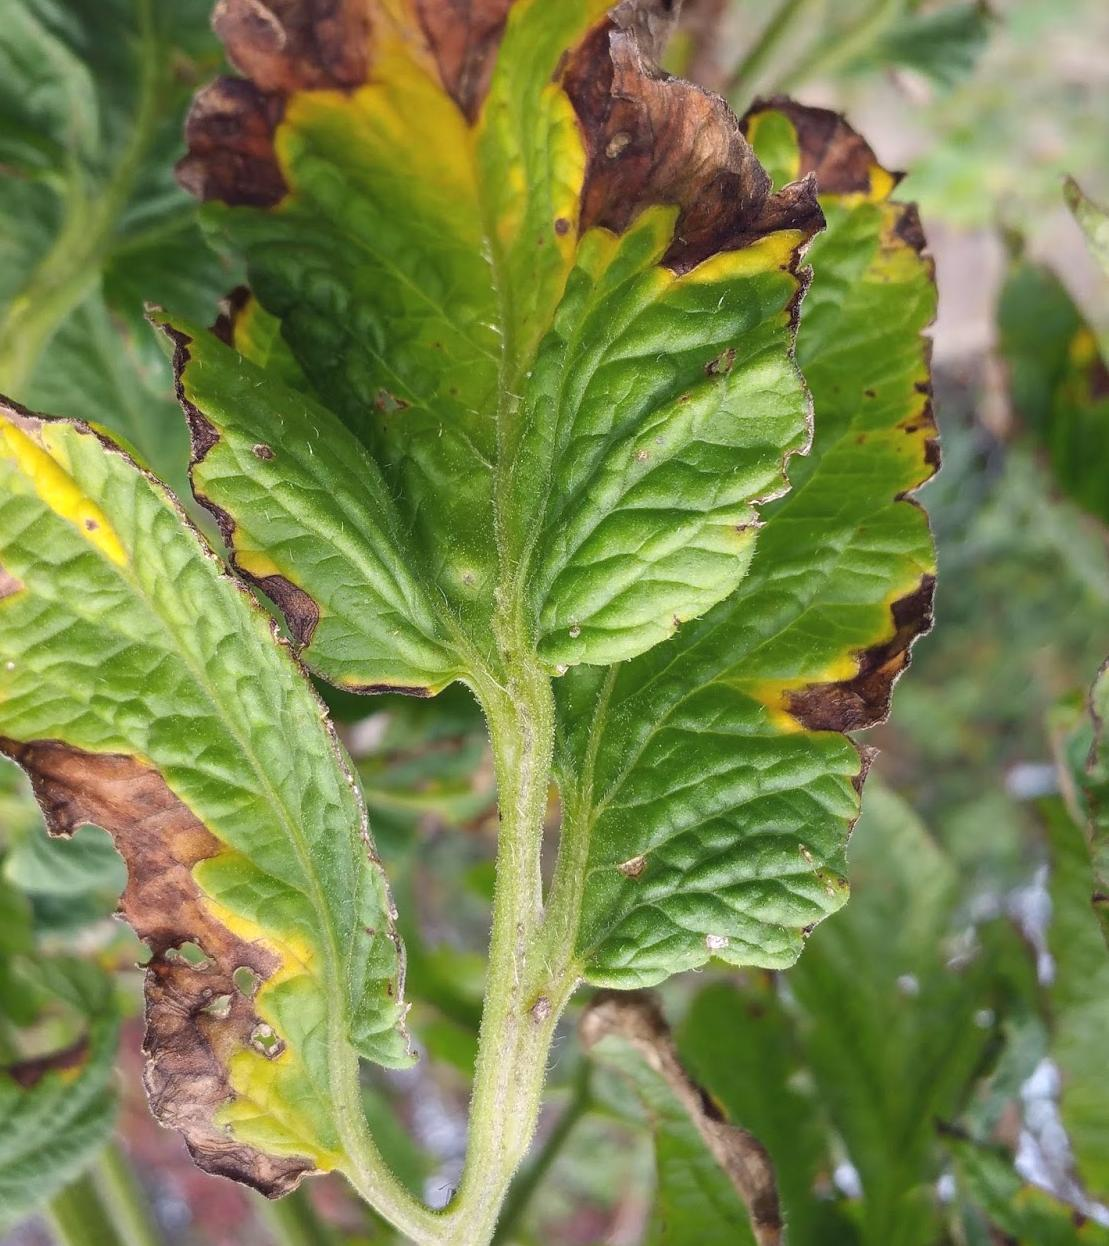Tomato leaf bacterial spot: (185, 0, 825, 739), (501, 79, 987, 1012), (0, 279, 412, 1234)
